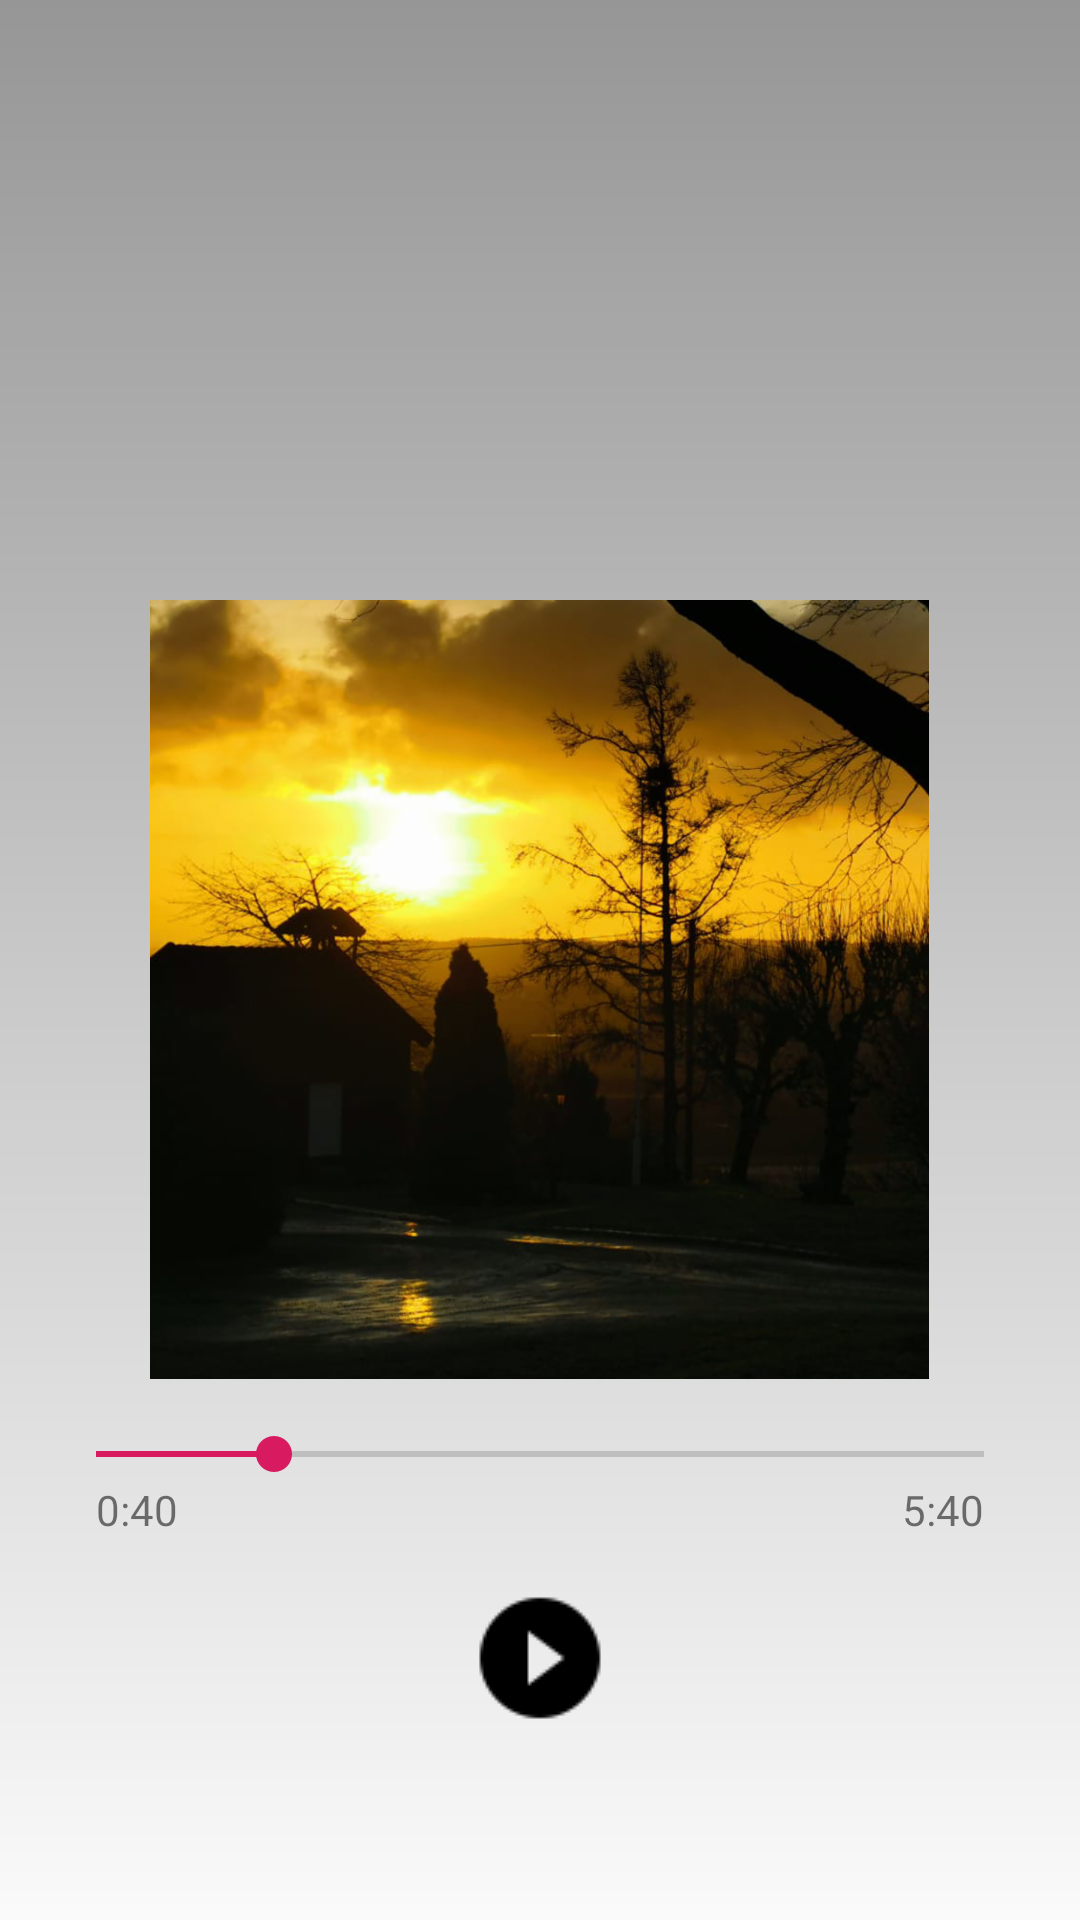

Icon bounding boxes for this 1080px×1920px phone screenshot, format box(x1, y1, x2, y2):
play circle: box(479, 1597, 601, 1719)
